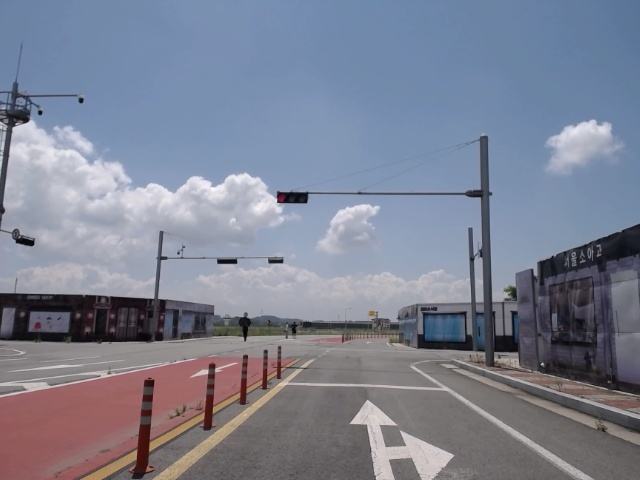red_3: (279, 192, 307, 204)
